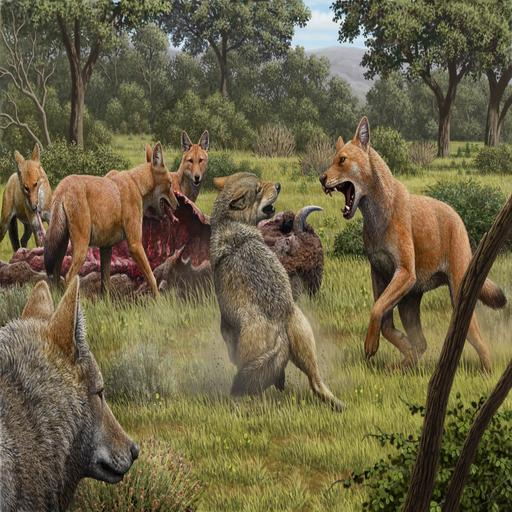Fox: (313, 114, 512, 393), (29, 142, 185, 305), (104, 129, 212, 265), (0, 141, 60, 248)
Wolf: (185, 165, 349, 428), (0, 274, 145, 512)
